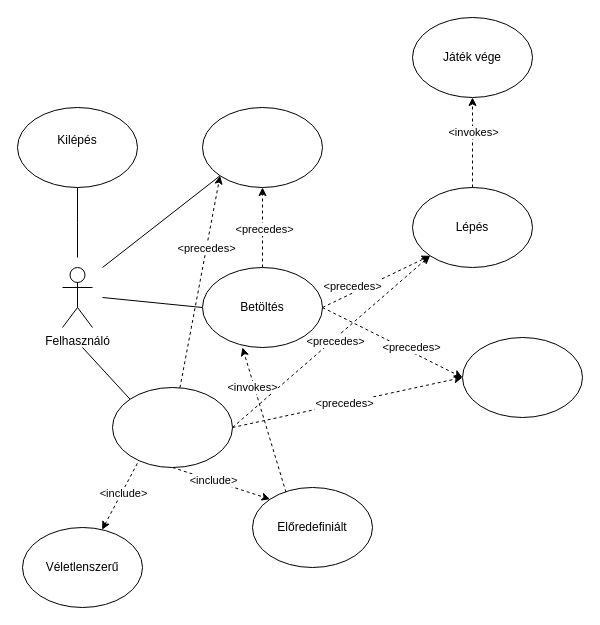
The diagram is 600 pixels wide and 625 high, and some of its shapes have lost their labels. Each missing label, with the centre of its shape:
"Játékidő múlása" belongs at (x=522, y=377).
"Mentés" belongs at (x=262, y=147).
"Új játék" belongs at (x=172, y=427).
